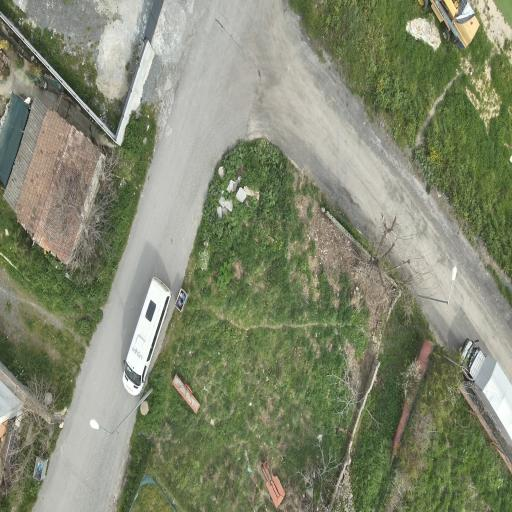car: (123, 277, 172, 395), (462, 339, 511, 446)
harvester: (419, 0, 479, 48)
